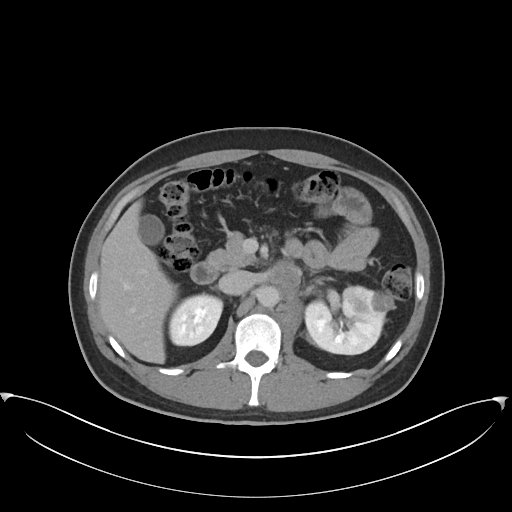Lesion: (367, 287, 400, 315)
